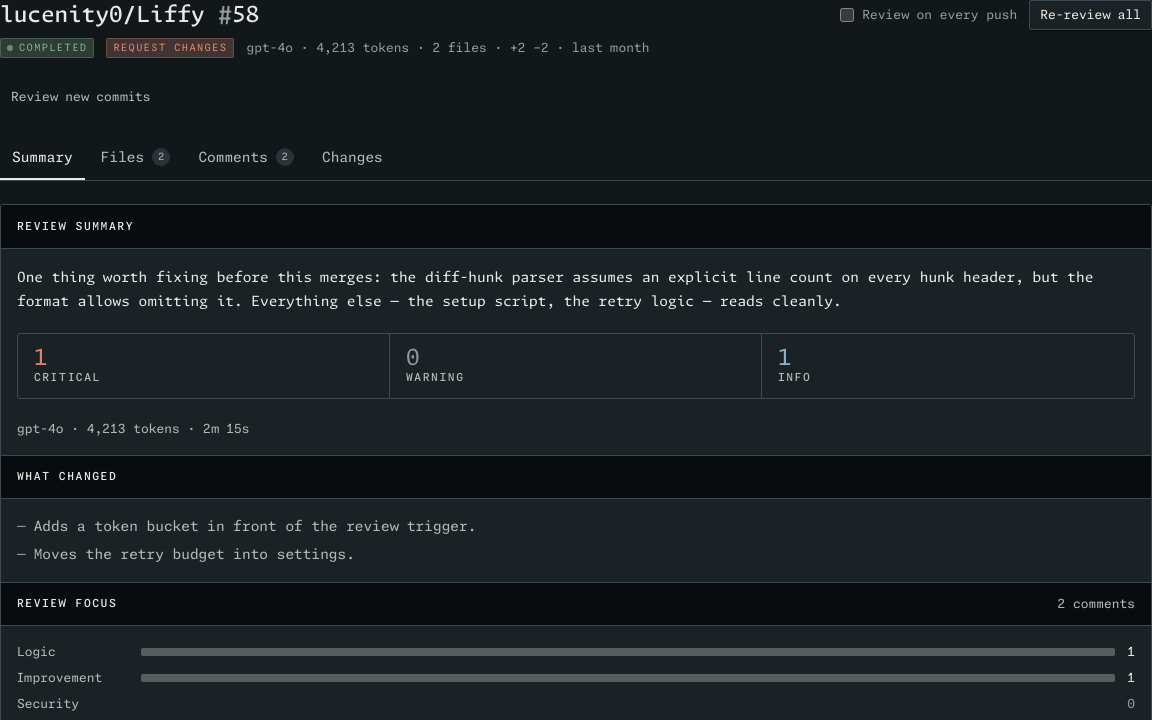
Test: ReviewDetail — the overview › shows what the PR does on the summary, and what changed where on its own tab
Check: the heading "What changed" is shown, box [17,469,117,484]
Check: the text "Adds a token bucket in front of the review trigger." is shown, box [34,515,476,537]
Click the tab "Changes" at (352, 158), box [310,136,395,180]
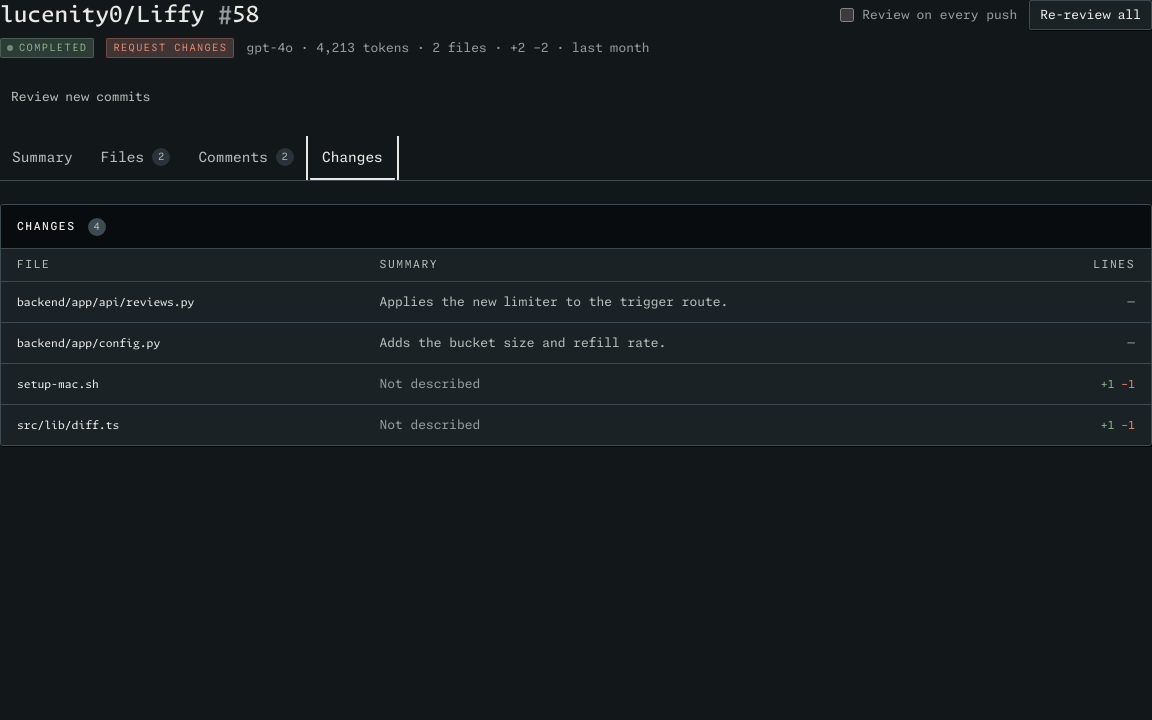
Check: the text "backend/app/api/reviews.py" is shown, box [17,296,194,308]
Check: the text "Applies the new limiter to the trigger route." is shown, box [364,281,1023,322]
